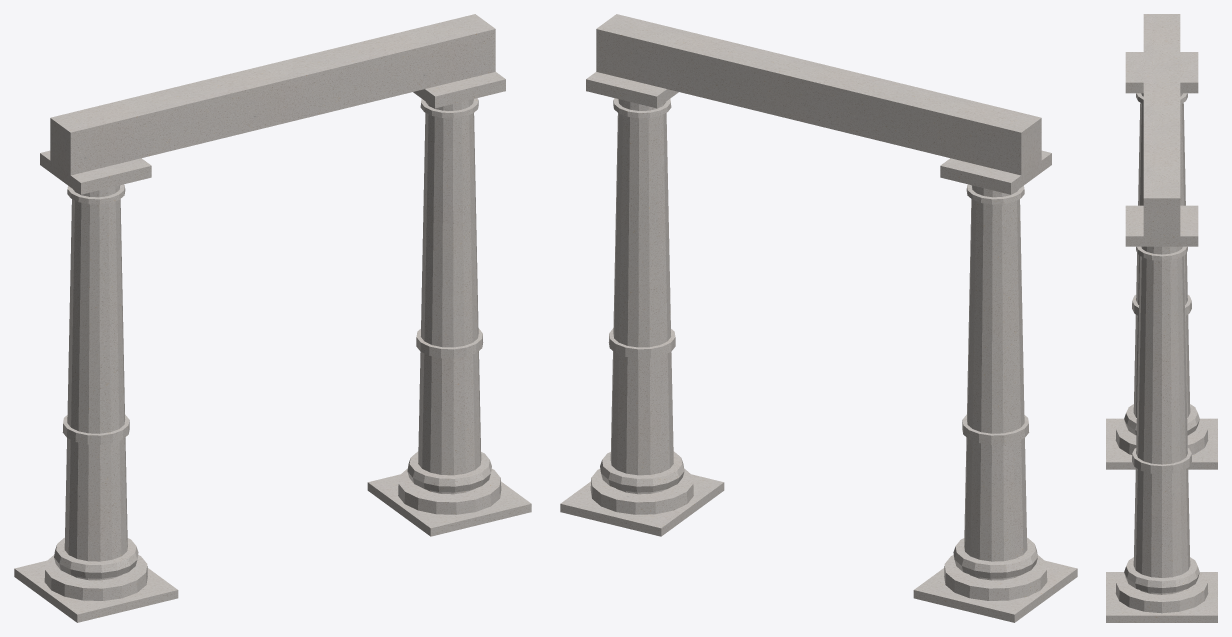
Rendered from Archway.fbx.
3 views of the same model, side by side, from view 1: azimuth 30°, elevation 25°; view 2: azimuth 150°, elevation 25°; view 3: azimuth 270°, elevation 25° (orthographic). The views are drawn at different scales.
Visible parts, largest first — view 1: Archway; view 2: Archway; view 3: Archway.
Part boxes in pixels (bbox=[...]): Archway: bbox=[14, 14, 531, 622]; Archway: bbox=[560, 14, 1077, 622]; Archway: bbox=[1106, 14, 1217, 622].
Size of the model in its own units: 833 by 825 by 200.
